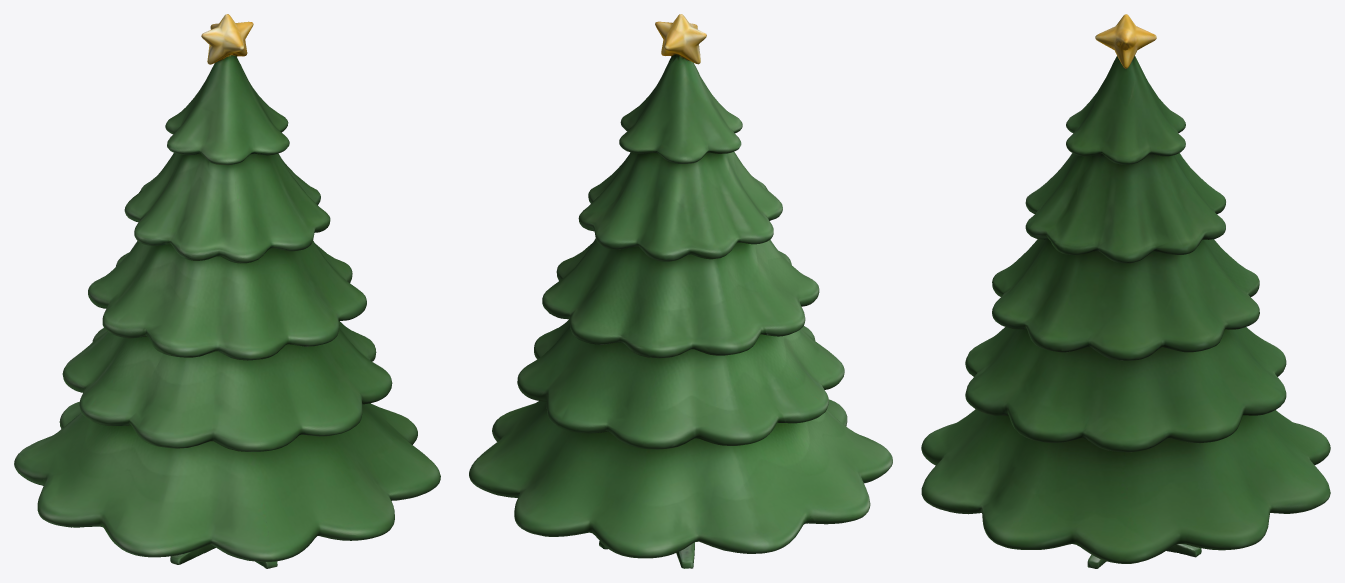
The model's file is tree.glb.
3 renders of one model, left to right at view 1: azimuth 30°, elevation 25°; view 2: azimuth 150°, elevation 25°; view 3: azimuth 270°, elevation 25°, orthographic.
Visible parts, largest first — view 1: texture_mapping; view 2: texture_mapping; view 3: texture_mapping.
Boxes of the visible parts, x1,y1,x2,y2 form: texture_mapping: (14, 14, 440, 568); texture_mapping: (469, 14, 892, 568); texture_mapping: (921, 14, 1330, 568).
Size of the model in its own units: 0.7436 by 1 by 0.7115.
Materials: 1 (1 with a texture image).
